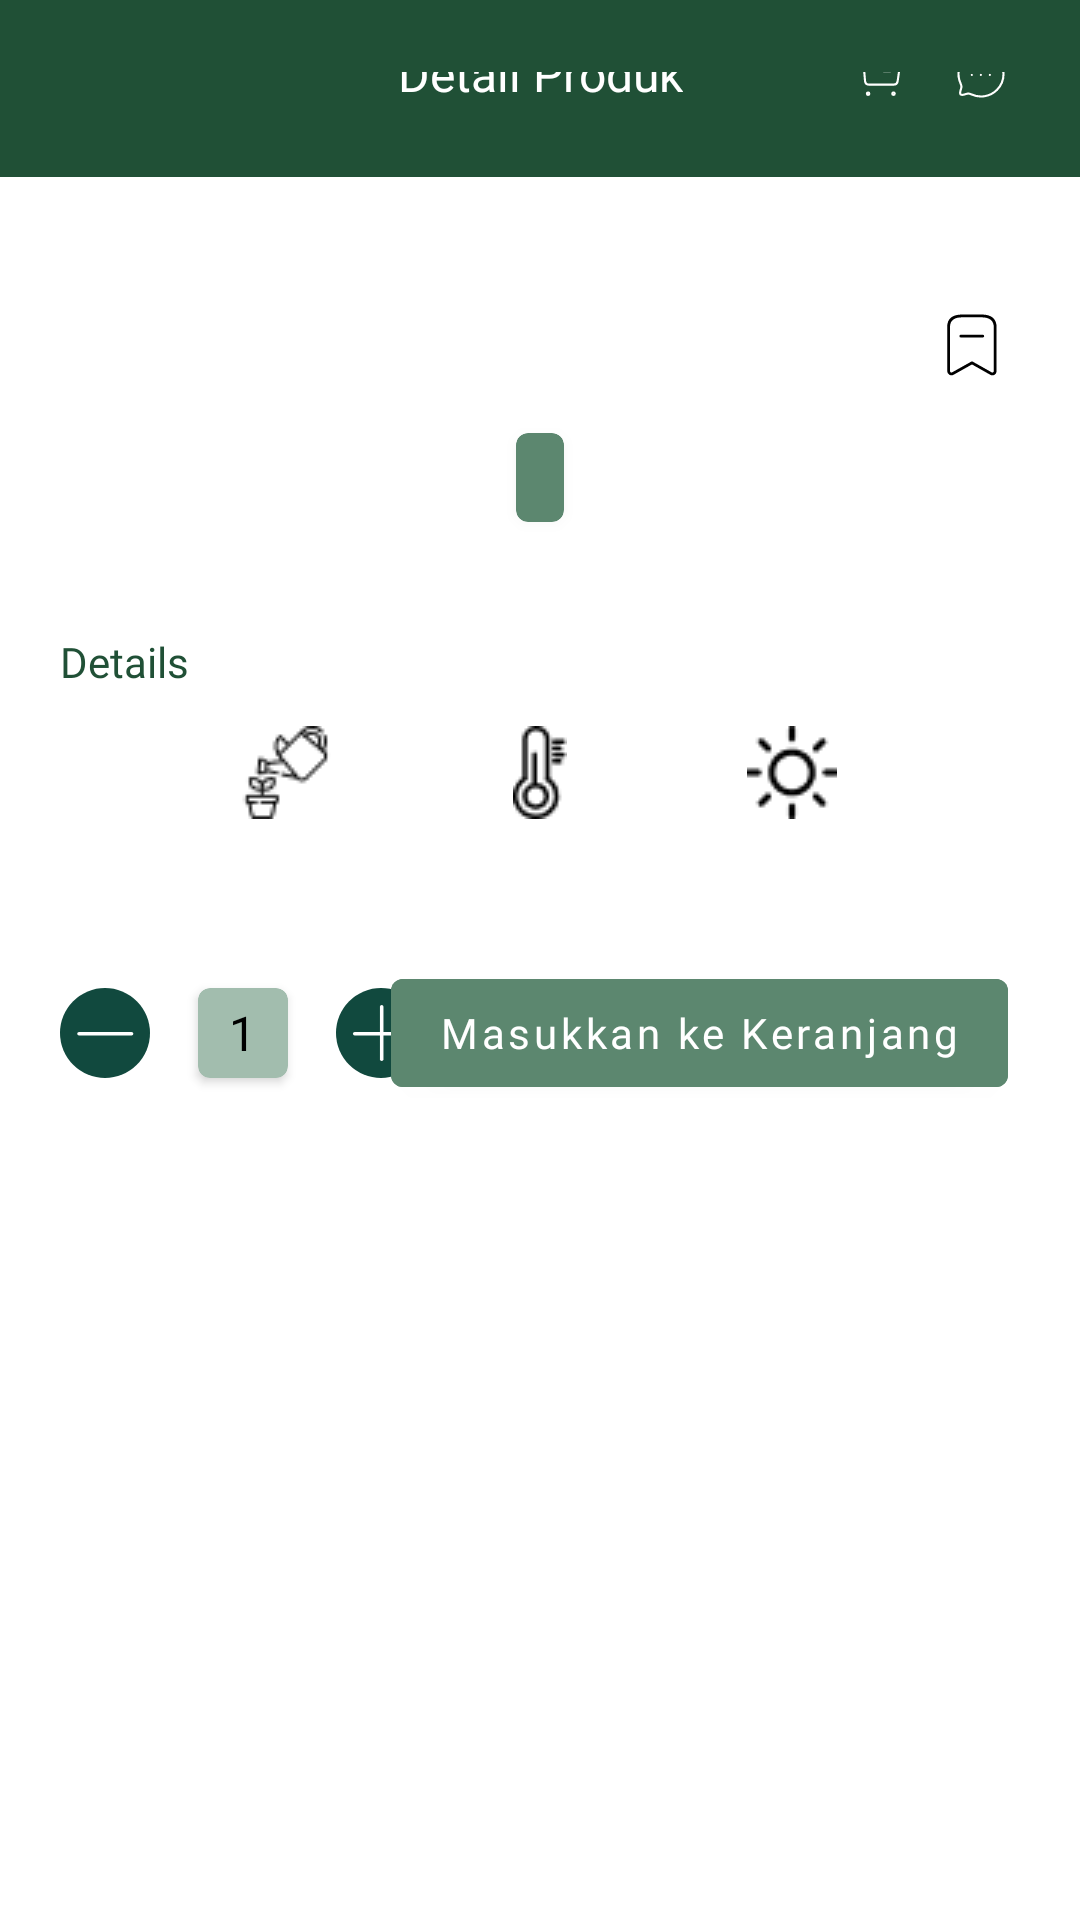

Where to tap for icons on this 1080×1920 app screen, as (x=x, y=y):
bookmark: (x=972, y=345)
cart: (x=881, y=84)
chat: (x=981, y=85)
remove: (x=105, y=1033)
